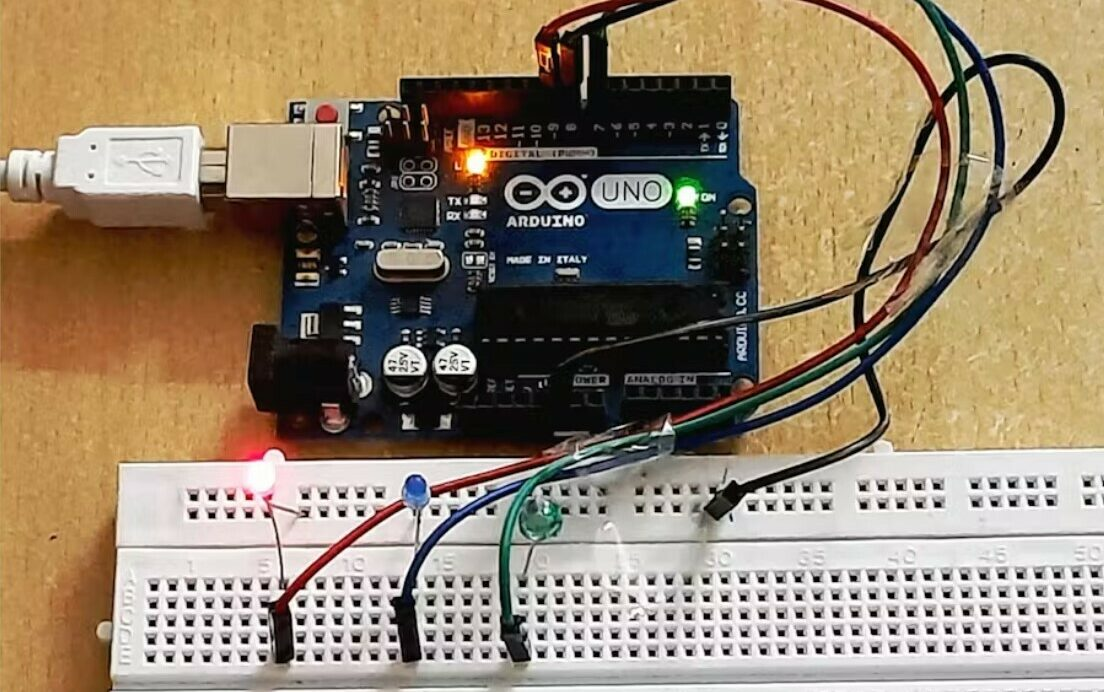Arduino: (221, 68, 767, 440)
Protoboard: (95, 445, 1104, 692)
